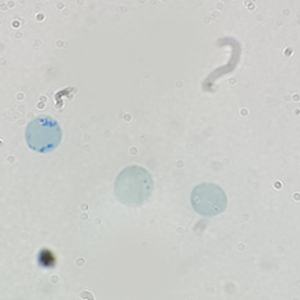aggregate reticulocyte: (23, 114, 63, 155)
erythrocyte: (189, 181, 229, 218)
punctate reticulocyte: (112, 165, 156, 208)
